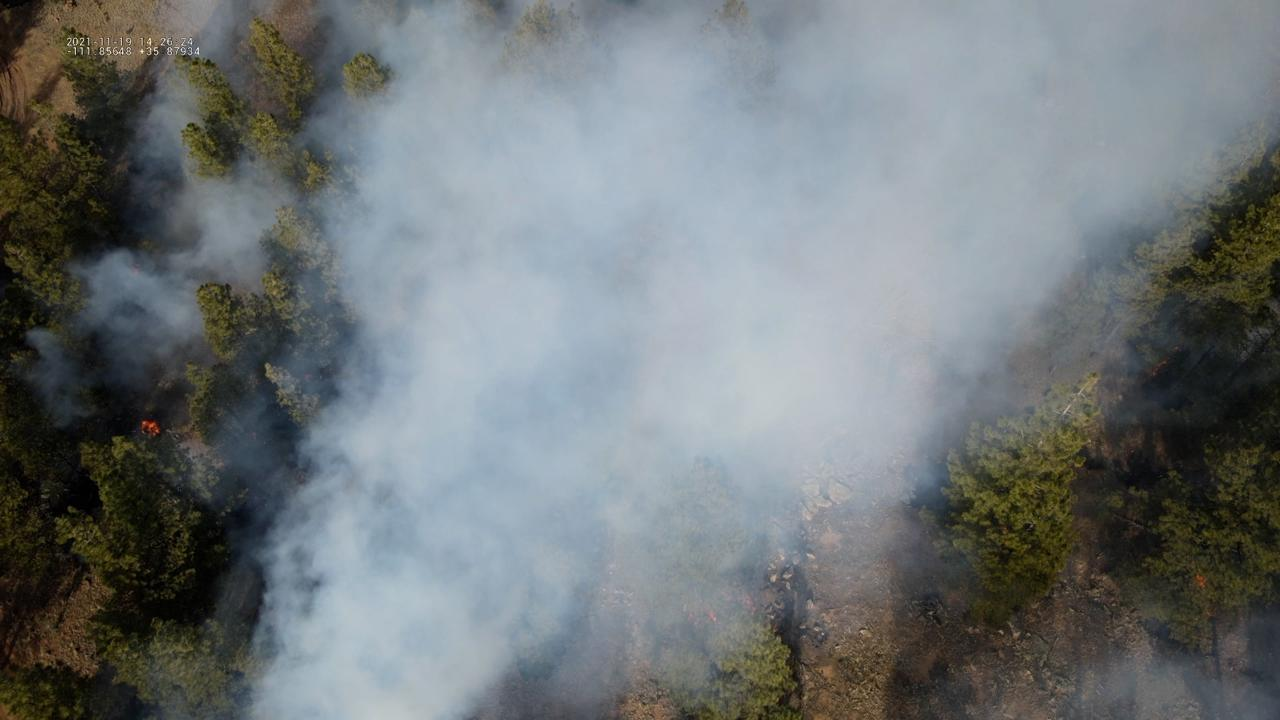fire: (138, 417, 162, 438), (1149, 357, 1169, 378), (1193, 571, 1208, 591)
smoke: (0, 0, 1280, 720)
